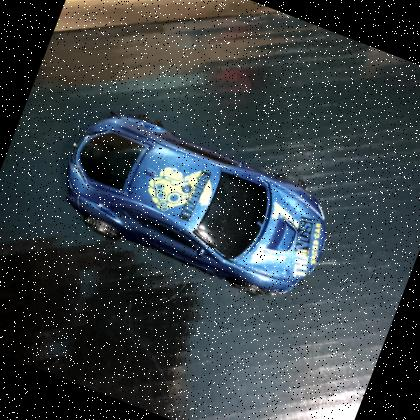Car: (42, 92, 349, 316)
